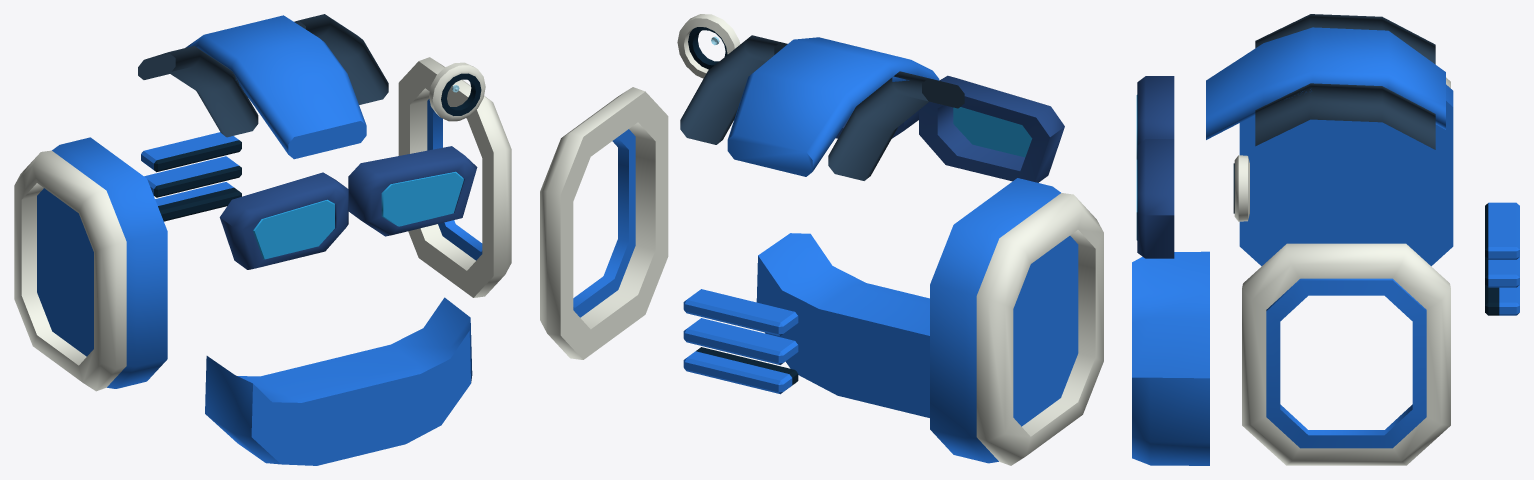
Rendered from copilot_security_v01.glb.
The picture shows the model from 3 angles, left to right: view 1: azimuth 30°, elevation 25°; view 2: azimuth 150°, elevation 25°; view 3: azimuth 270°, elevation 25°; orthographic projection. The views are drawn at different scales.
Parts seen in each view (by area): view 1: security_model; view 2: security_model; view 3: security_model.
Part boxes in pixels (x1=…): security_model: x1=14, y1=14, x2=511, y2=465; security_model: x1=540, y1=14, x2=1103, y2=465; security_model: x1=1132, y1=14, x2=1519, y2=465.
Size of the model in its own units: 2.55 by 2.05 by 1.89.
Materials: 1 (1 with a texture image).
